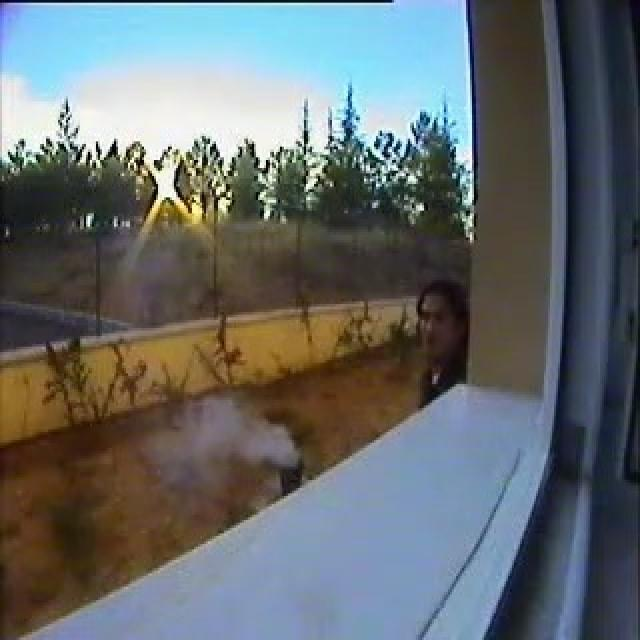smoke: (180, 401, 298, 471)
